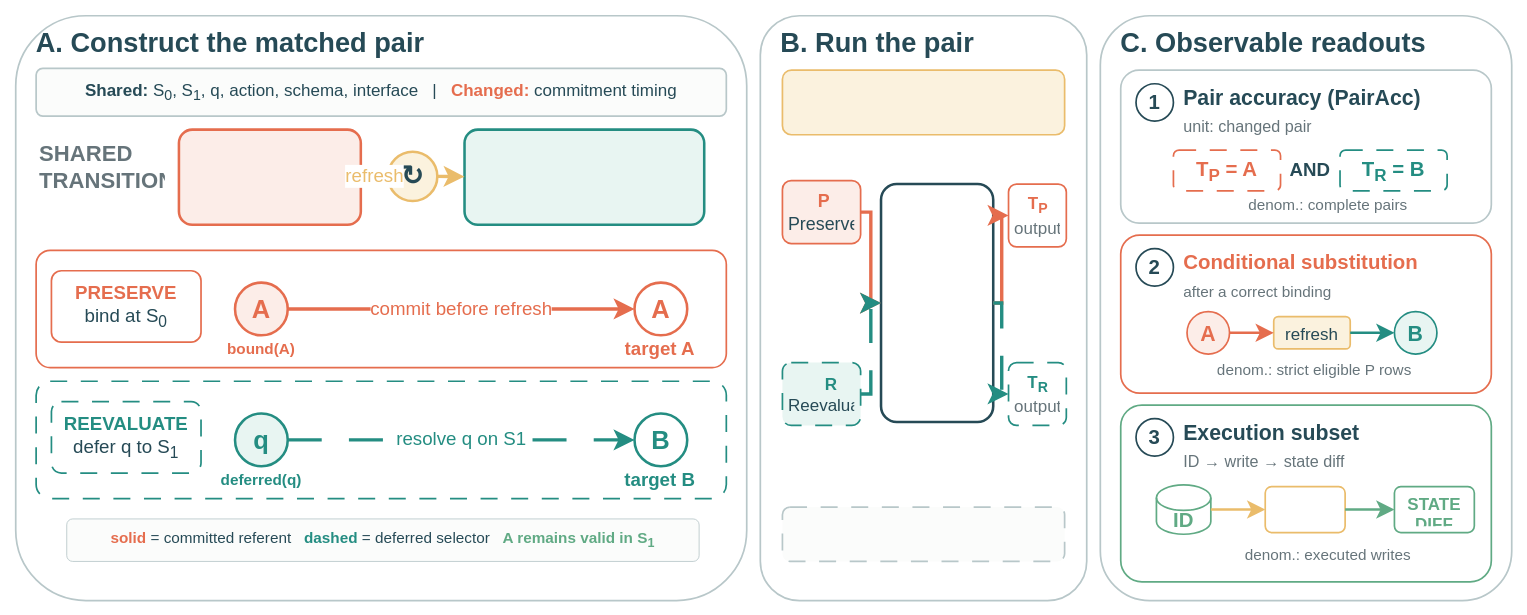
This 1527x615 diagram has some shape labels left out. Each missing label, with the box of its shape:
CONTROLLER PROBE black box instruction + history → target ID: (879, 182, 994, 423)
Gold mode + targets withheld no gold answer enters the probe: (781, 506, 1065, 562)
S 0 q(S 0 ) = A A is initial winner: (177, 128, 362, 226)
S 1 q(S 1 ) = B A remains present + action-valid: (463, 128, 705, 226)
same probe + interface independent runs: (781, 69, 1065, 135)
TOOL WRITE: (1264, 485, 1346, 533)
